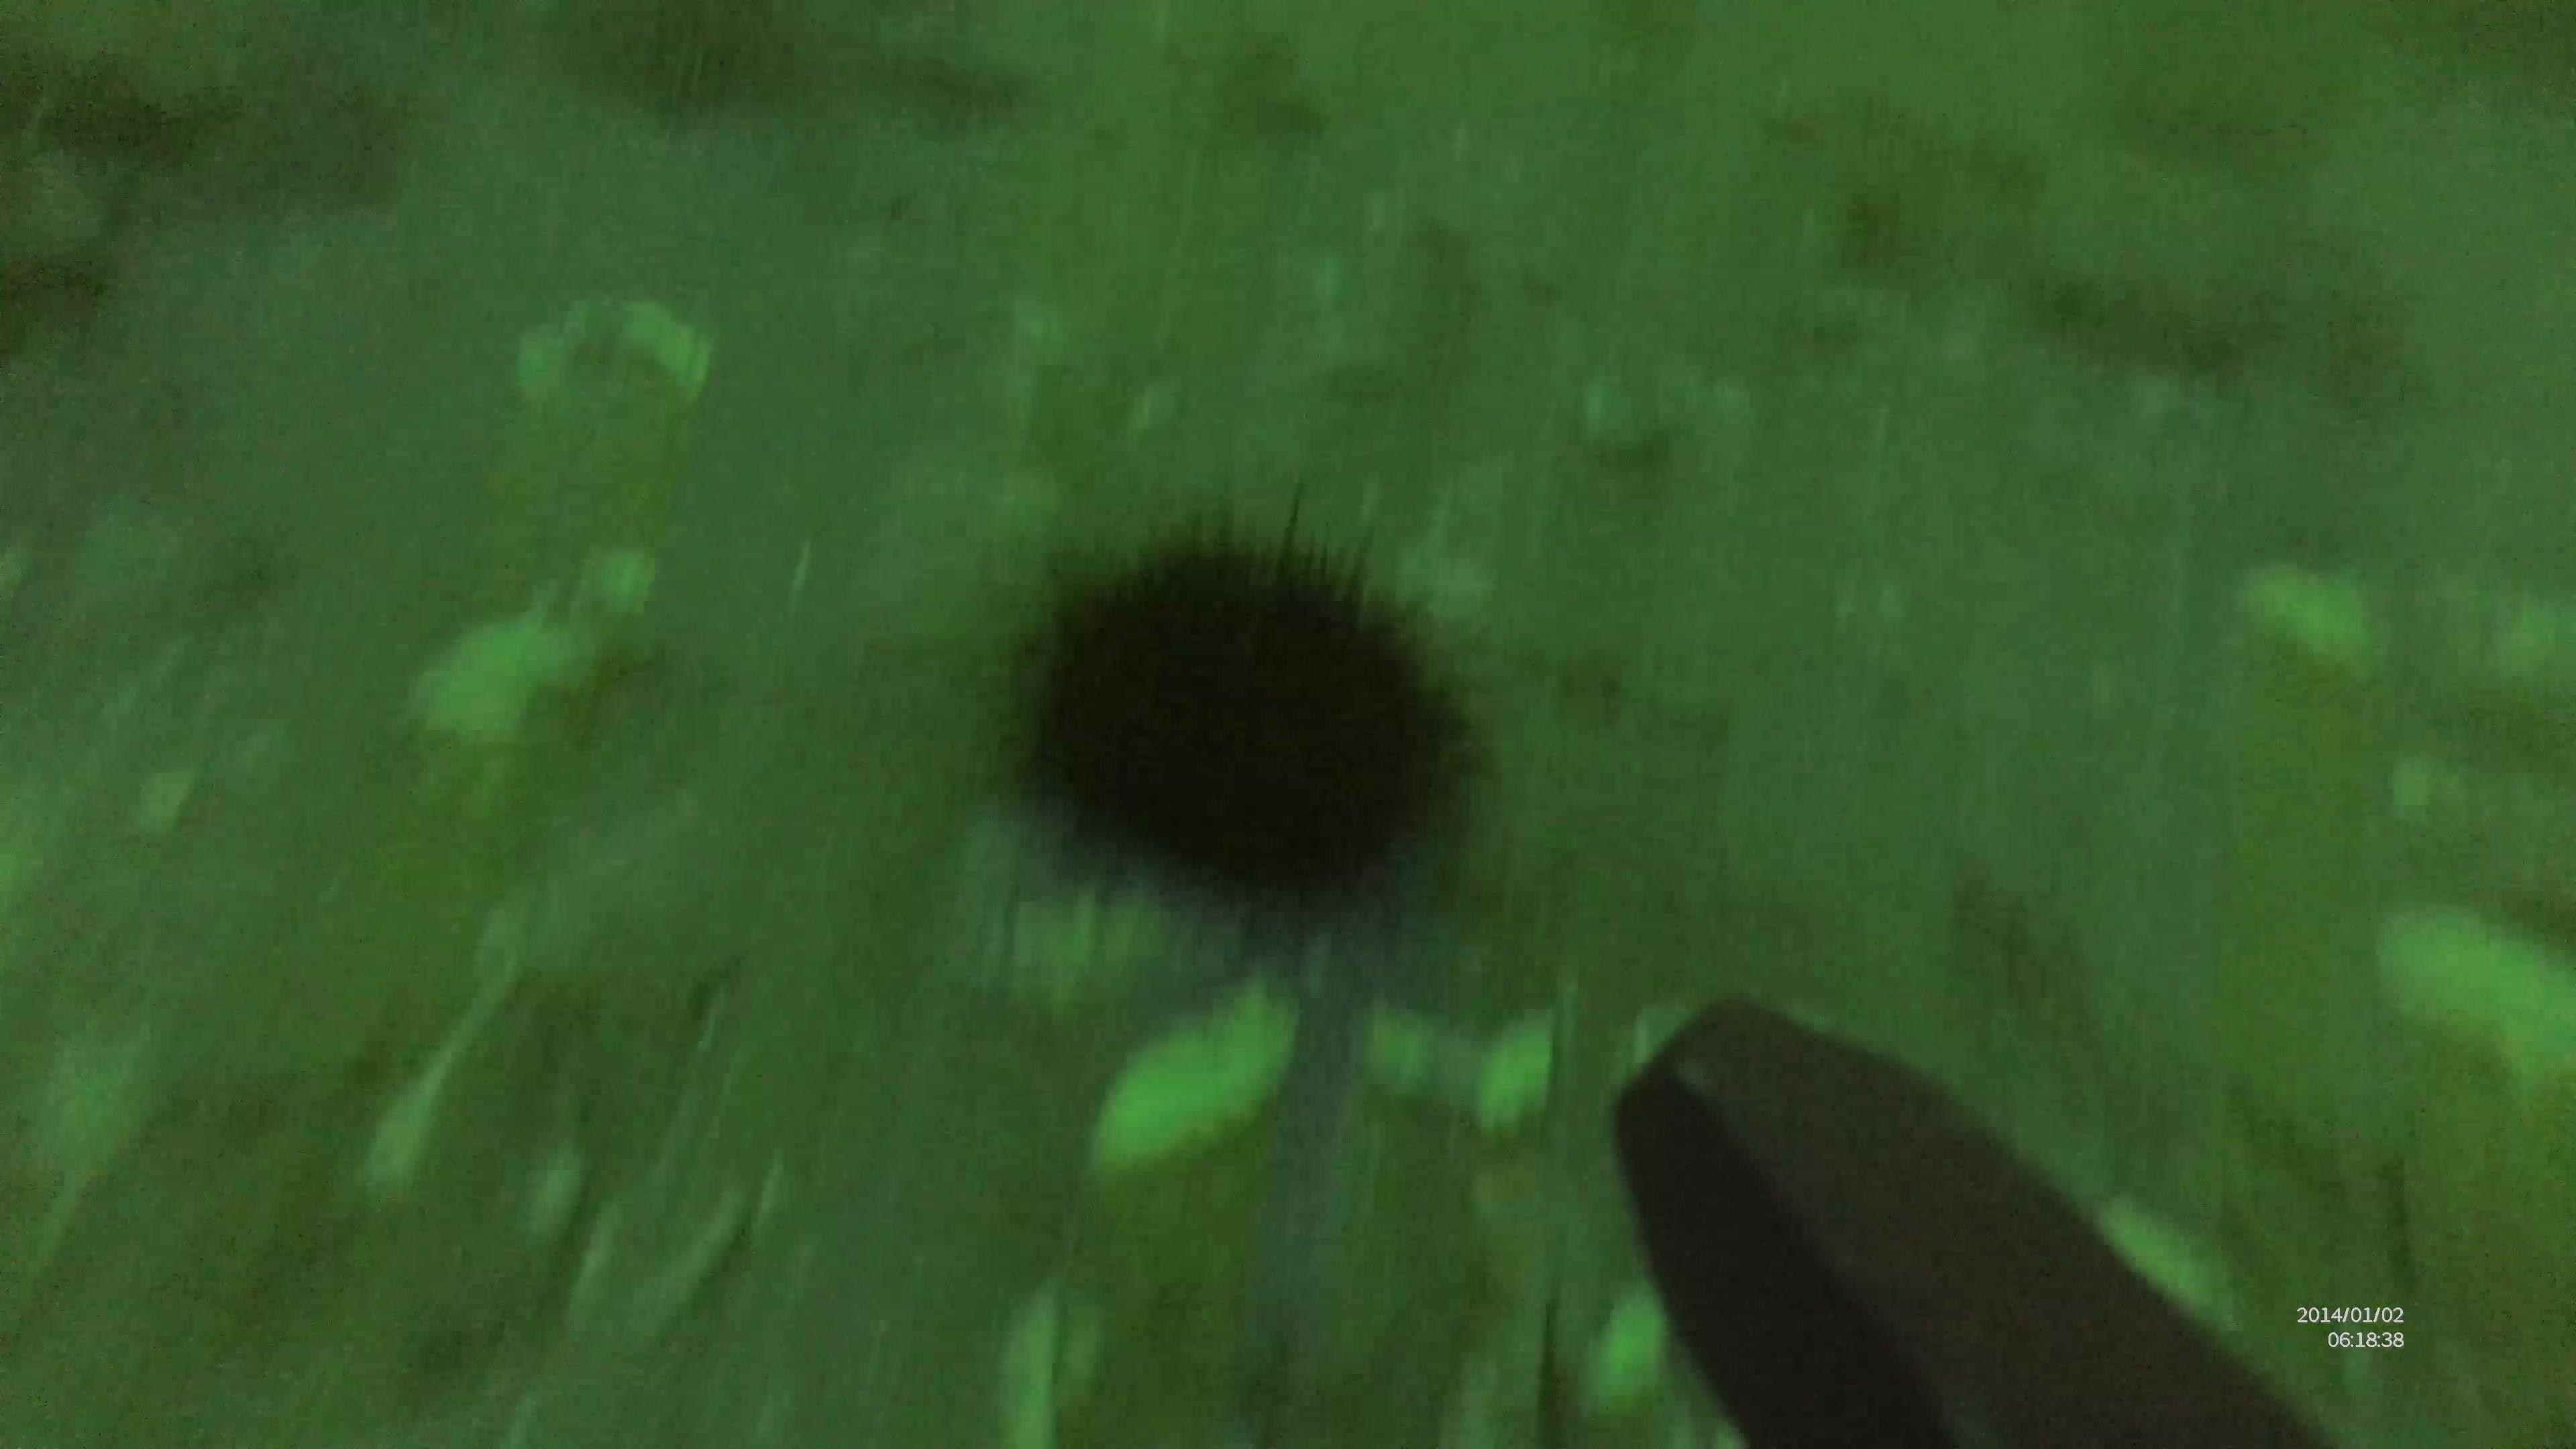echinus: (957, 488, 1511, 947)
scallop: (1578, 366, 1674, 453)
